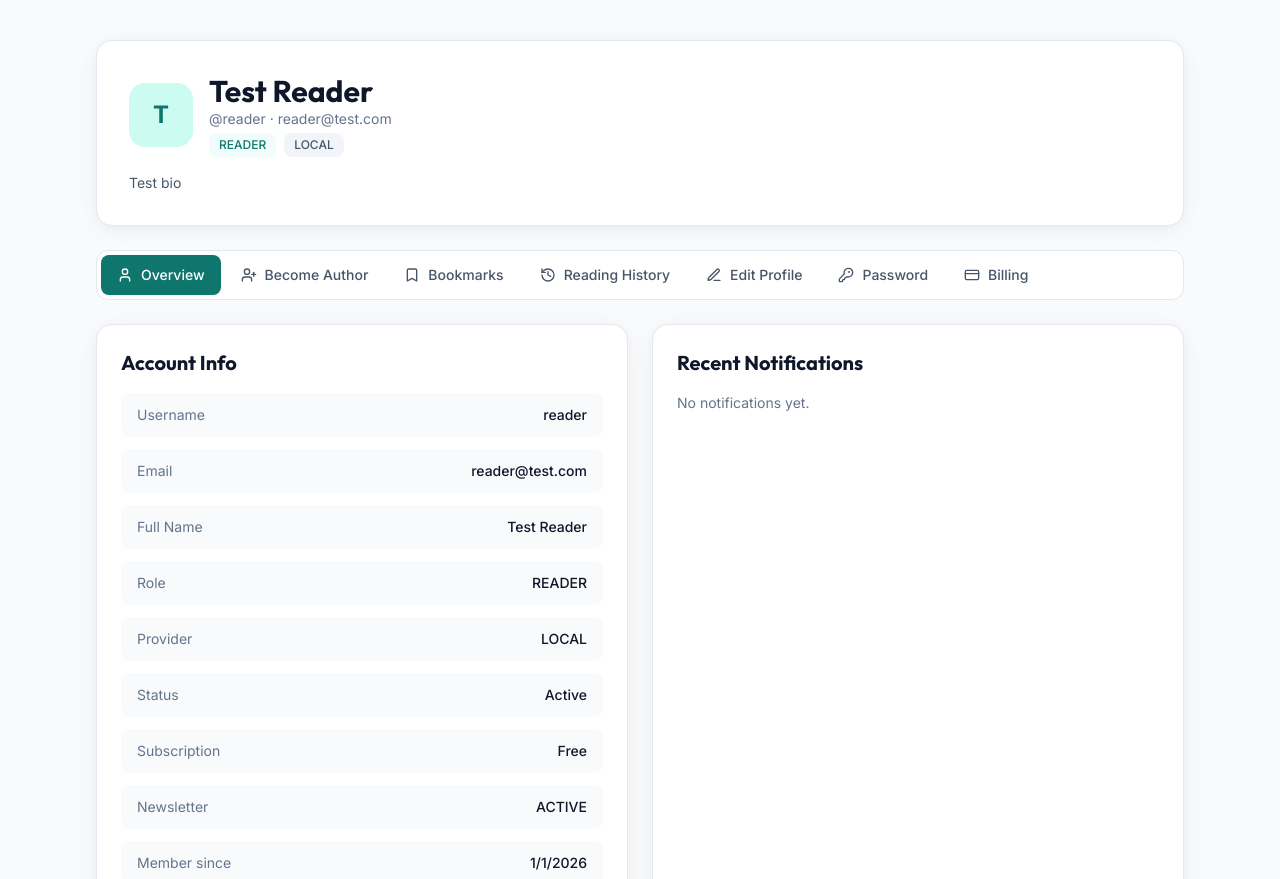
Scenario: ProfilePage › validates full name
Click the button "Edit Profile": x=754, y=275 x1=690 y1=255 x2=818 y2=295
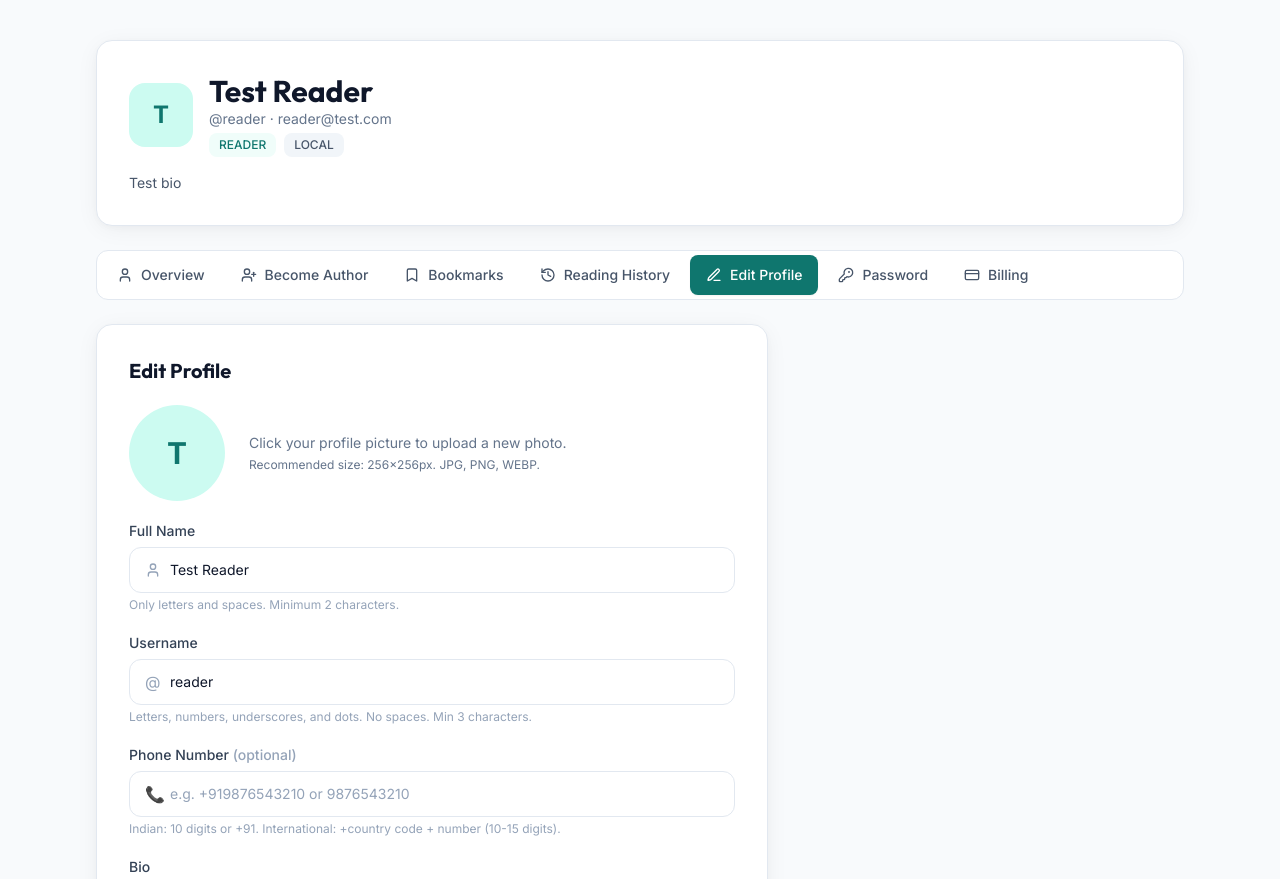
Check: the field with placeholder "Full name" below "Full Name" is shown
Clear the field with placeholder "Full name" below "Full Name": x=432, y=570 x1=129 y1=547 x2=735 y2=593
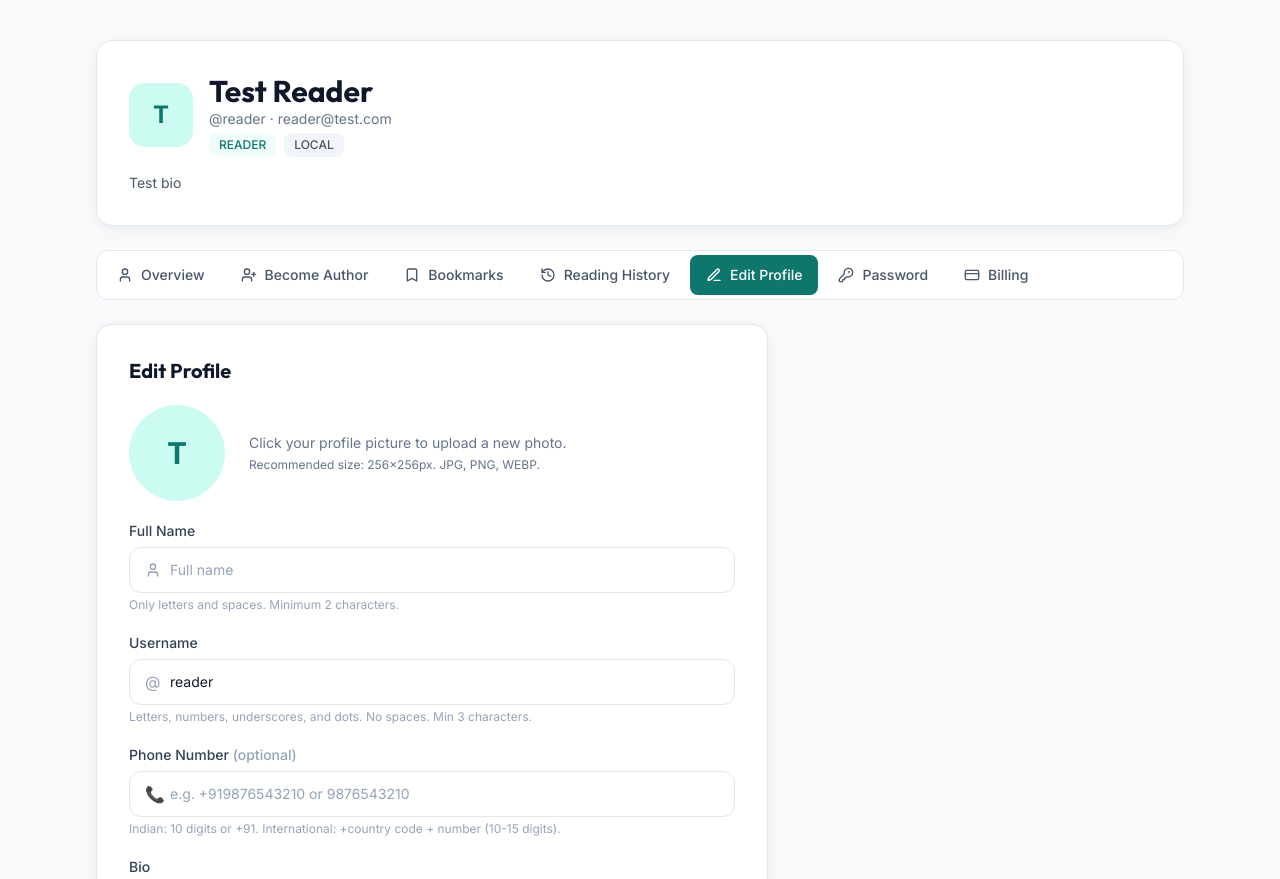
Leave the field with placeholder "Full name", box x1=129 y1=547 x2=735 y2=593
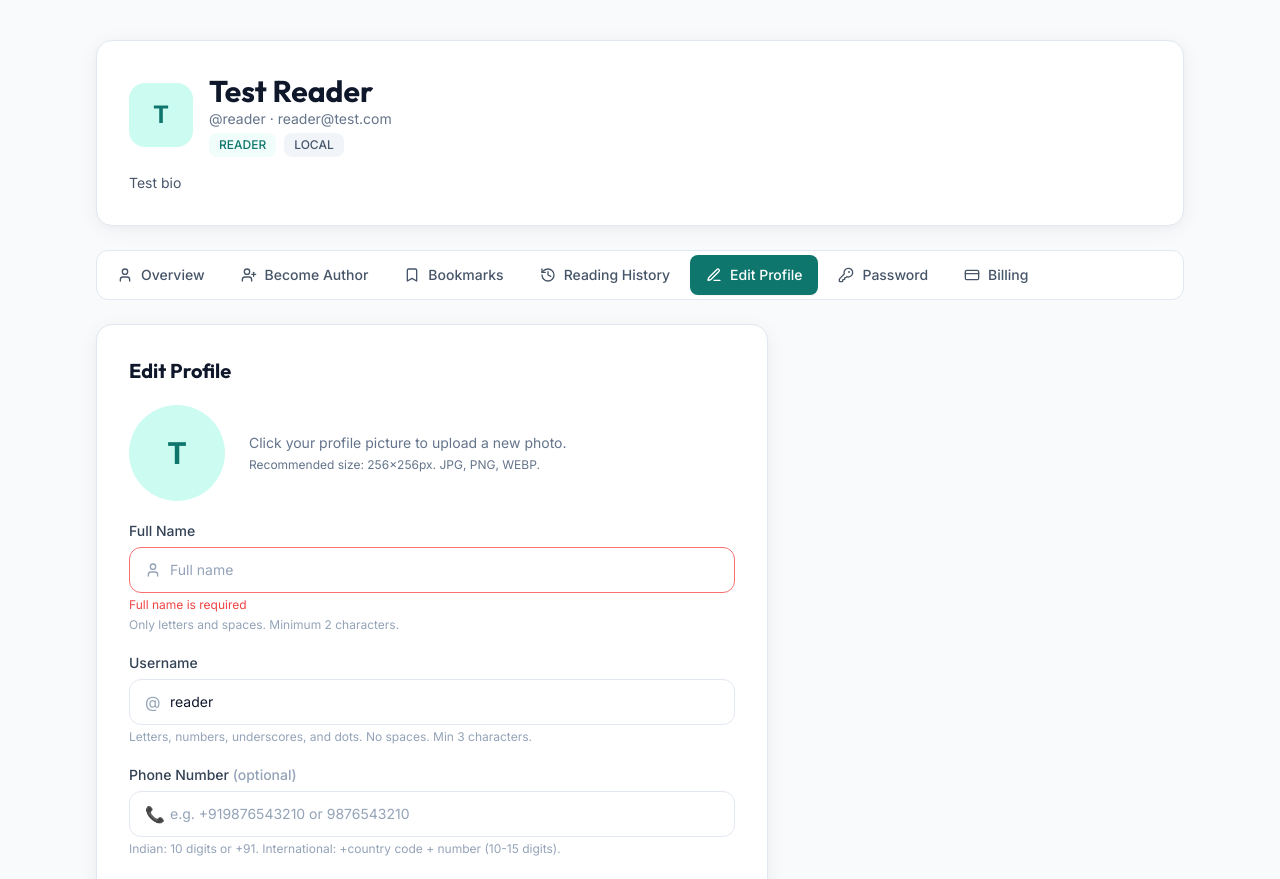
Check: the text "Full name is required" is shown, box x1=129 y1=597 x2=247 y2=612
